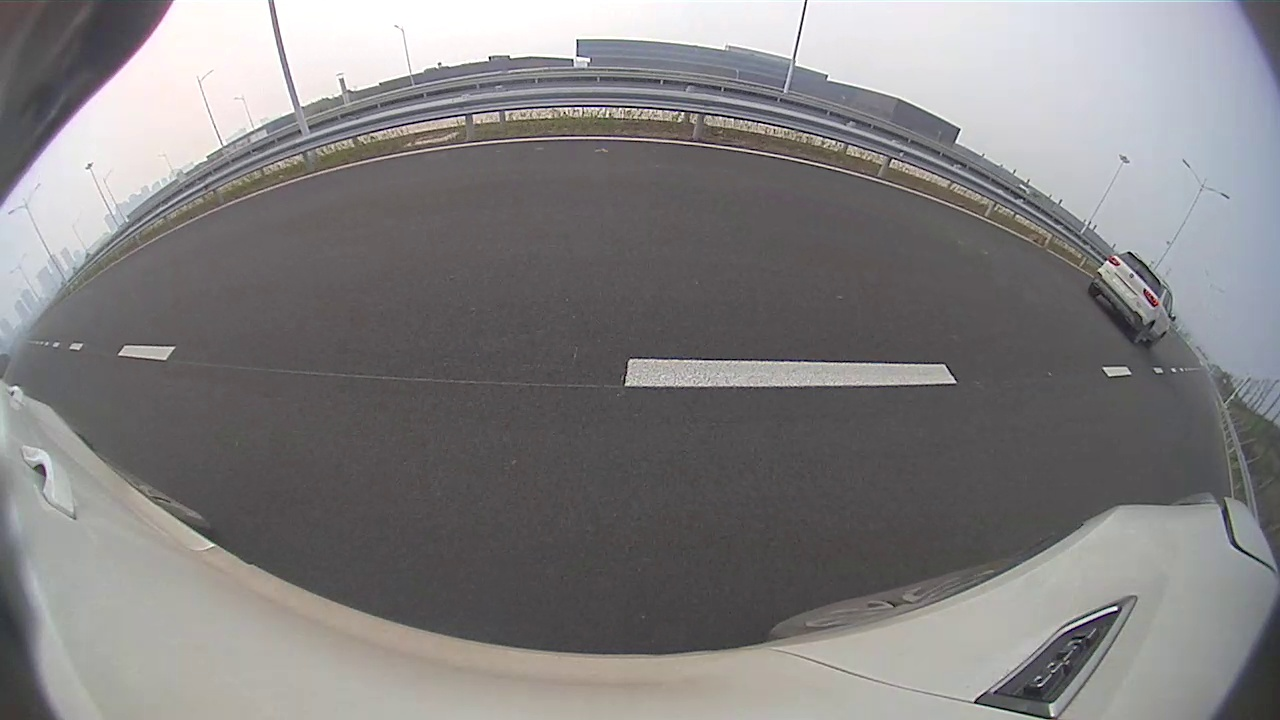car: (1088, 251, 1176, 348)
